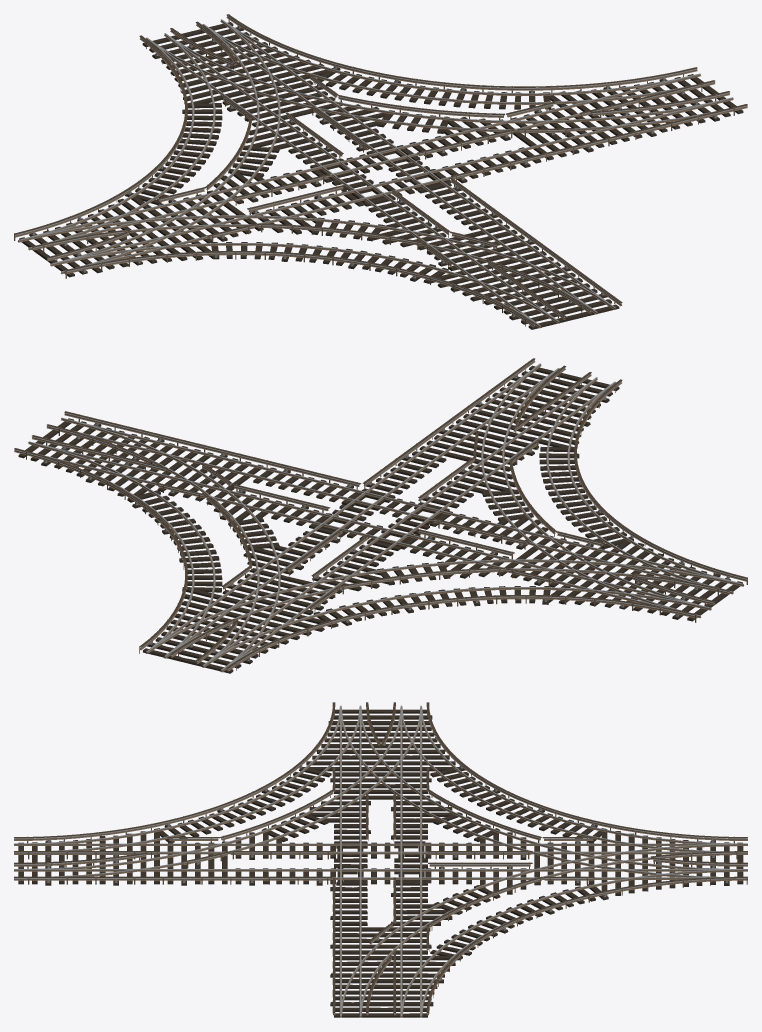
The model's file is SW_ENV_TrackJunction_EL_03.fbx.
3 renders of one model, top to bottom at view 1: azimuth 30°, elevation 25°; view 2: azimuth 150°, elevation 25°; view 3: azimuth 270°, elevation 25°, orthographic. The views are drawn at different scales.
Parts seen in each view (by area): view 1: SW_ENV_TrackJunction_EL_03; view 2: SW_ENV_TrackJunction_EL_03; view 3: SW_ENV_TrackJunction_EL_03.
Part boxes in pixels (bbox=[...]): SW_ENV_TrackJunction_EL_03: bbox=[14, 14, 747, 329]; SW_ENV_TrackJunction_EL_03: bbox=[14, 358, 747, 673]; SW_ENV_TrackJunction_EL_03: bbox=[14, 702, 747, 1017].
Size of the model in its own units: 5450 by 58.87 by 5450.
